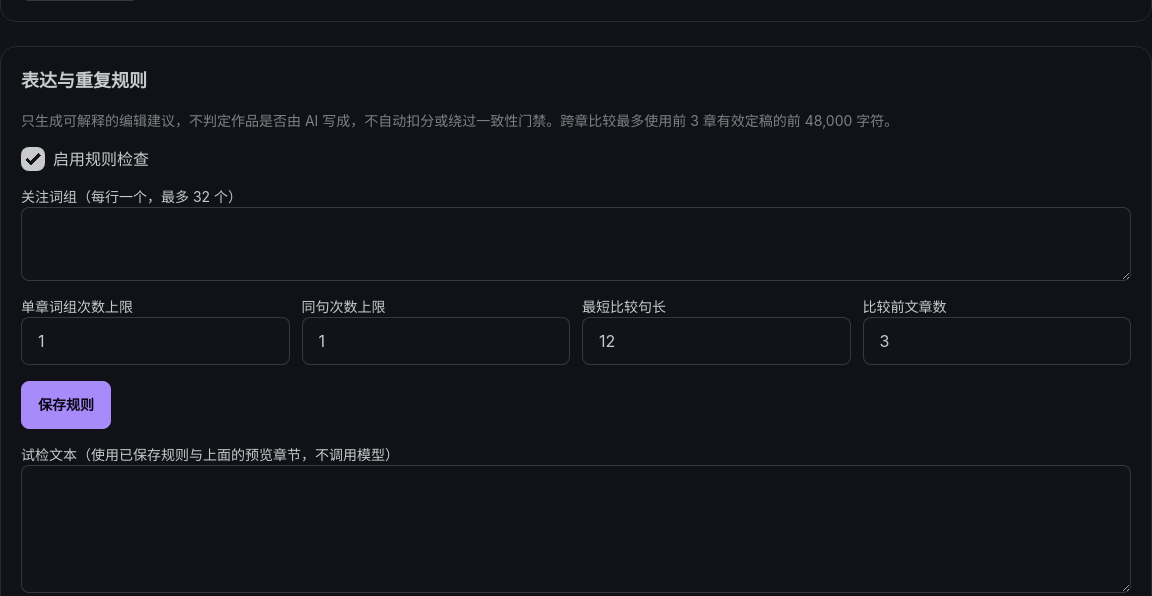
Test: Authoring workspace › renders structured conflicts without pretending the edit succeeded
(page scrolled)
Click the button "保存规则": (66, 405) [21, 381, 111, 429]
(page scrolled)
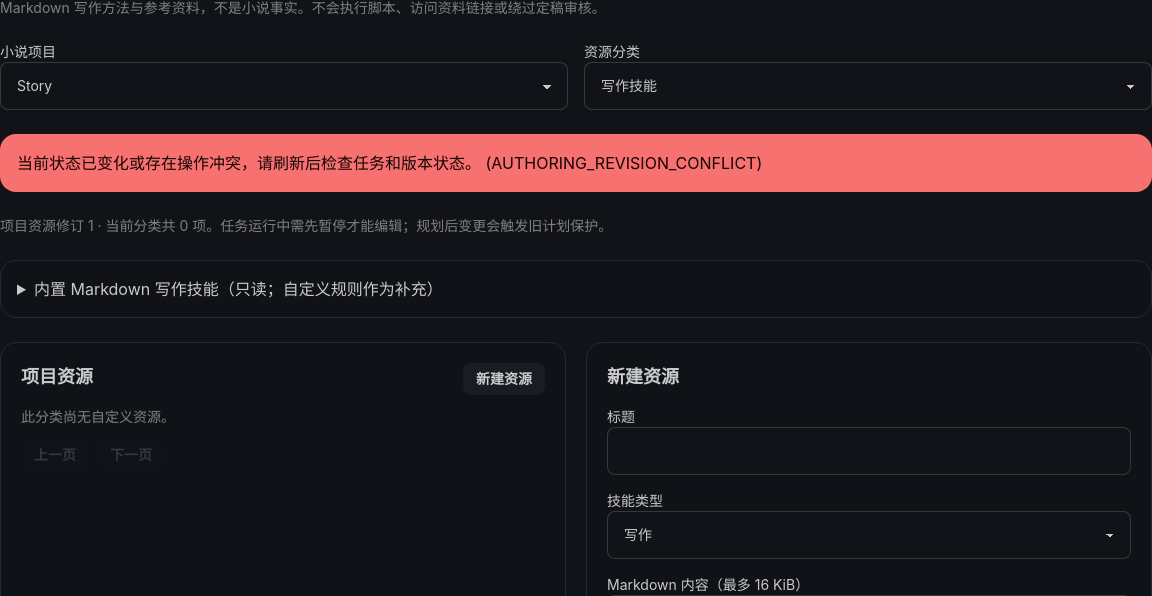
Expected: the message shows "AUTHORING_REVISION_CONFLICT", [17, 153, 762, 173]
